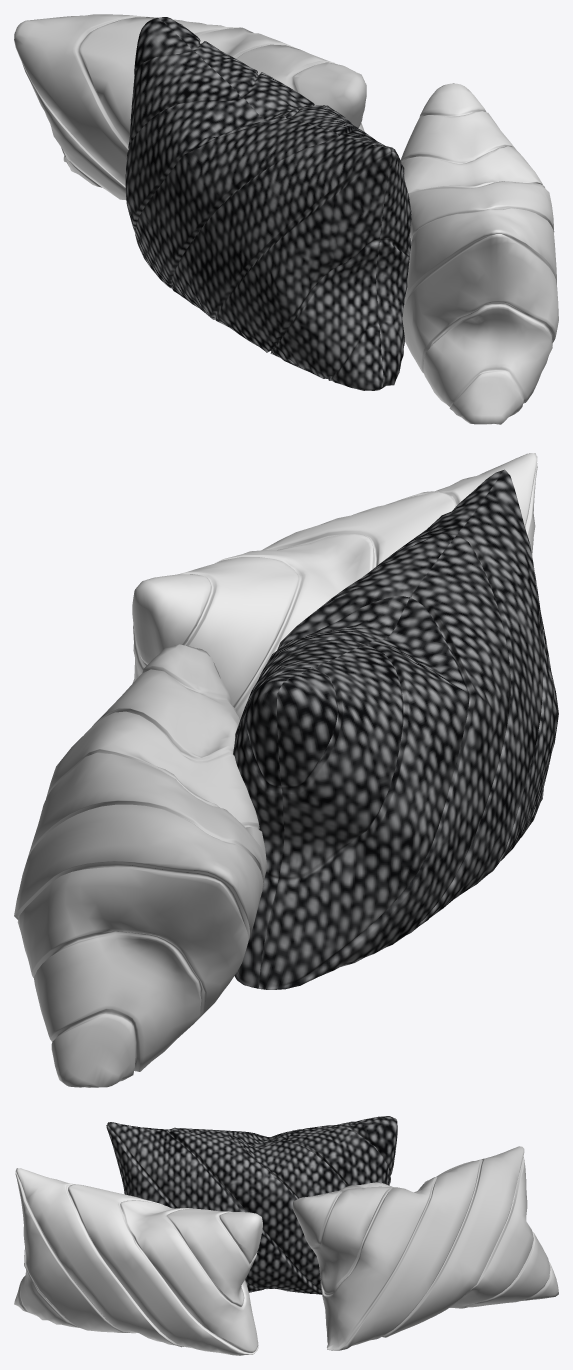
Rendered from Cushion.fbx.
The picture shows the model from 3 angles, top to bottom: view 1: azimuth 30°, elevation 25°; view 2: azimuth 150°, elevation 25°; view 3: azimuth 270°, elevation 25°; orthographic projection. The views are drawn at different scales.
Visible parts, largest first — view 1: Cushion black, Cushion yellow, Cushion White; view 2: Cushion black, Cushion White, Cushion yellow; view 3: Cushion White, Cushion yellow, Cushion black.
Boxes of the visible parts, x1,y1,x2,y2 form: Cushion black: (125,17,411,390); Cushion yellow: (400,83,558,424); Cushion White: (14,14,366,199); Cushion black: (233,469,558,989); Cushion White: (14,644,267,1087); Cushion yellow: (132,453,537,719); Cushion White: (292,1146,558,1350); Cushion yellow: (14,1168,262,1355); Cushion black: (106,1116,397,1294).
Bounding box in the file's own units: 55.97 × 41.88 × 123.
